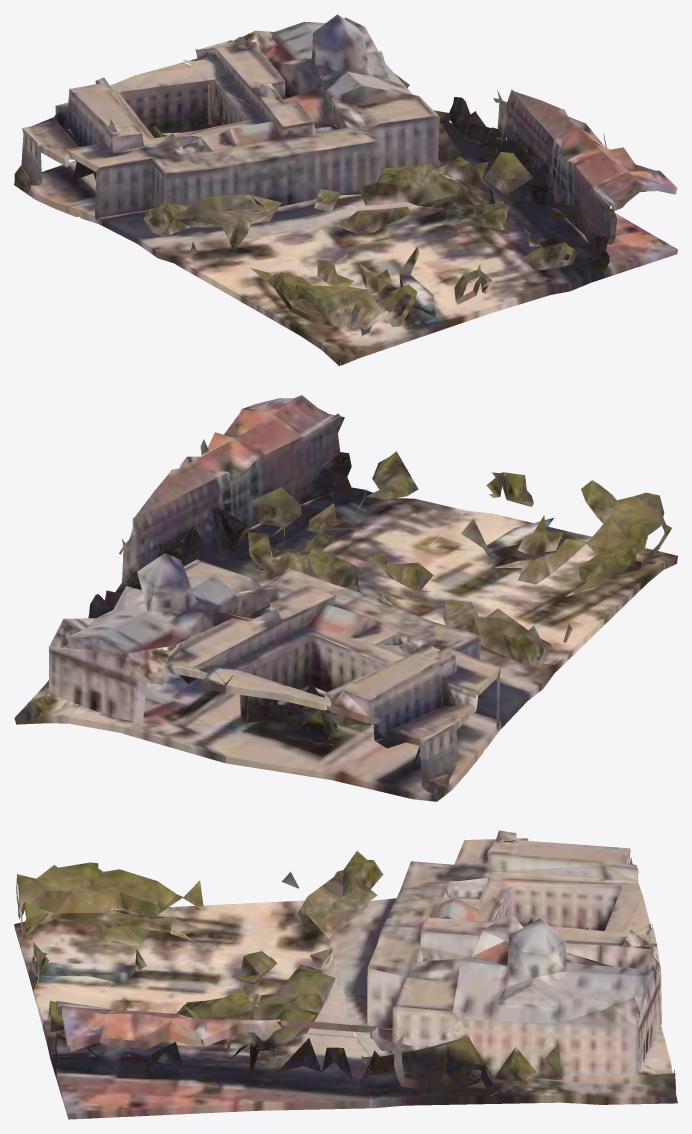
3 views of the same model, one above another, from view 1: azimuth 30°, elevation 25°; view 2: azimuth 150°, elevation 25°; view 3: azimuth 270°, elevation 25° (orthographic). The views are drawn at different scales.
Parts seen in each view (by area): view 1: Mesh_0; view 2: Mesh_0; view 3: Mesh_0.
Part boxes in pixels (x1=…): Mesh_0: x1=14, y1=14, x2=677, y2=365; Mesh_0: x1=14, y1=395, x2=677, y2=801; Mesh_0: x1=14, y1=830, x2=677, y2=1119.
Size of the model in its own units: 133 by 40.3 by 165.
Materials: 2 (2 with a texture image).
